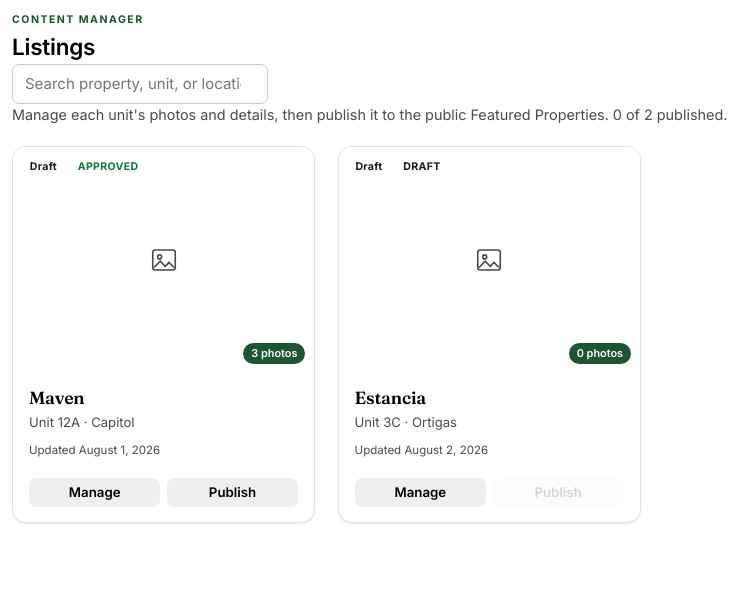
Test: ListingsManagerView › a failed publish shows the server's refusal against that row, naming the unit
Click the button "Publish" below "Updated August 1, 2026": (232, 492) [167, 478, 298, 507]
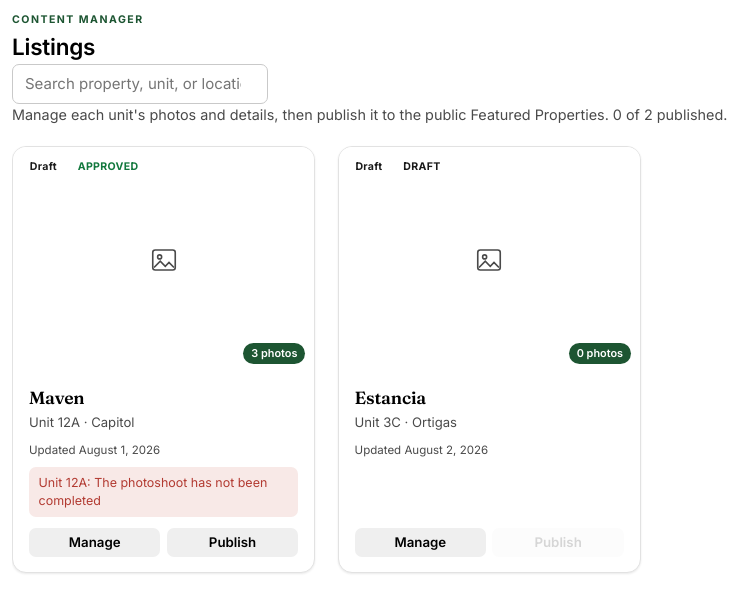
Check: the text "12A" is shown, box [29, 414, 80, 430]
Check: the text "The photoshoot has not been completed" is shown, box [39, 474, 267, 508]
